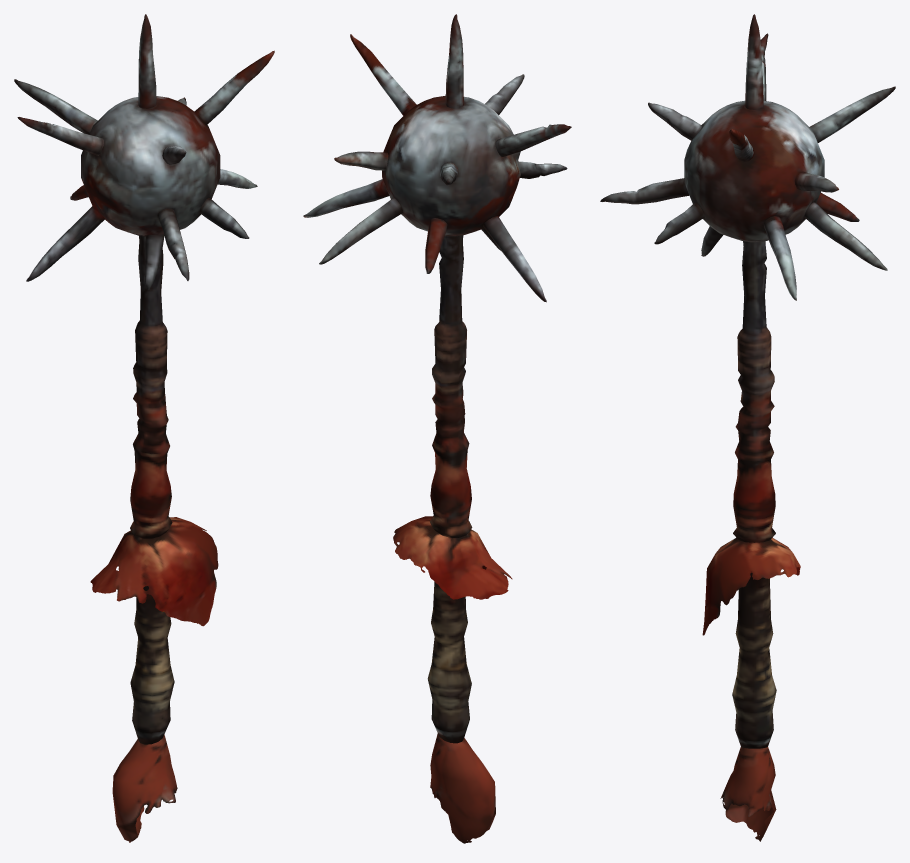
Rendered from weapon-malice.glb.
3 views of the same model, side by side, from view 1: azimuth 30°, elevation 25°; view 2: azimuth 150°, elevation 25°; view 3: azimuth 270°, elevation 25° (orthographic).
Parts seen in each view (by area): view 1: maceA_MDL_q; view 2: maceA_MDL_q; view 3: maceA_MDL_q.
Boxes of the visible parts, x1,y1,x2,y2 form: maceA_MDL_q: (14,14,274,842); maceA_MDL_q: (303,14,571,843); maceA_MDL_q: (600,14,895,841).
Size of the model in its own units: 0.4532 by 1.42 by 0.4532.
Materials: 1 (1 with a texture image).
